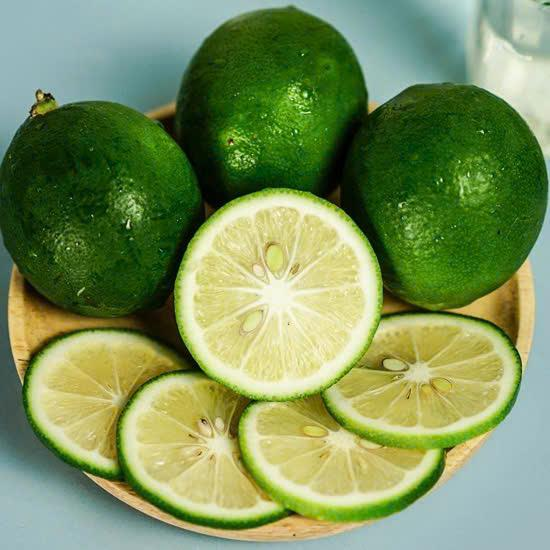lime: (3, 86, 212, 320), (371, 75, 550, 340), (168, 188, 382, 402), (171, 4, 373, 198), (364, 304, 529, 451), (239, 389, 428, 508), (122, 366, 257, 524), (20, 320, 152, 476)
